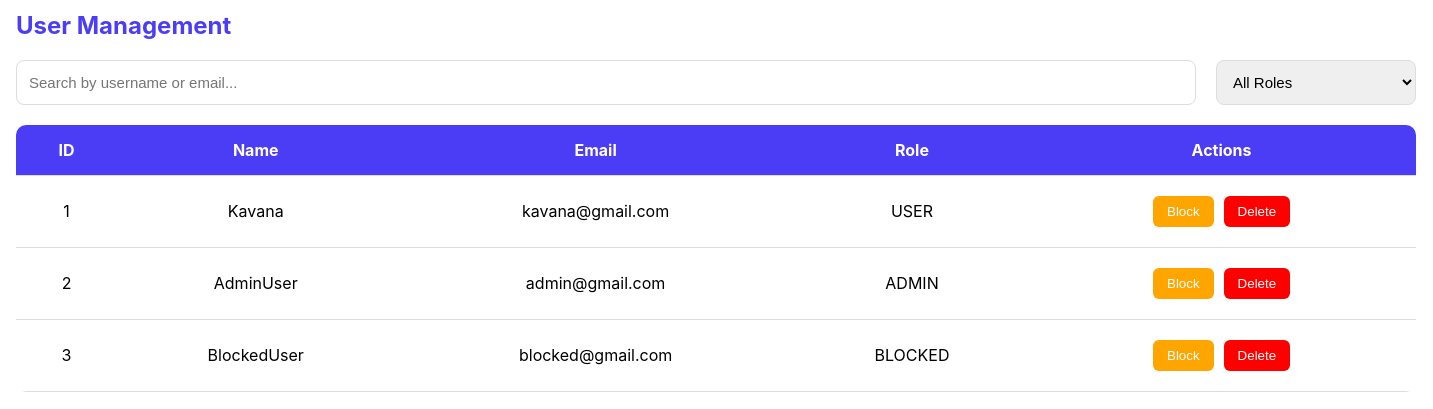
UserManagement Component › filters users using search input
Expected: the text "Kavana" is shown, [117,175,394,247]
Type "AdminUser" into the field with placeholder "Search by username or email...".
click(606, 82); type("AdminUser")  # box [16,60,1196,105]
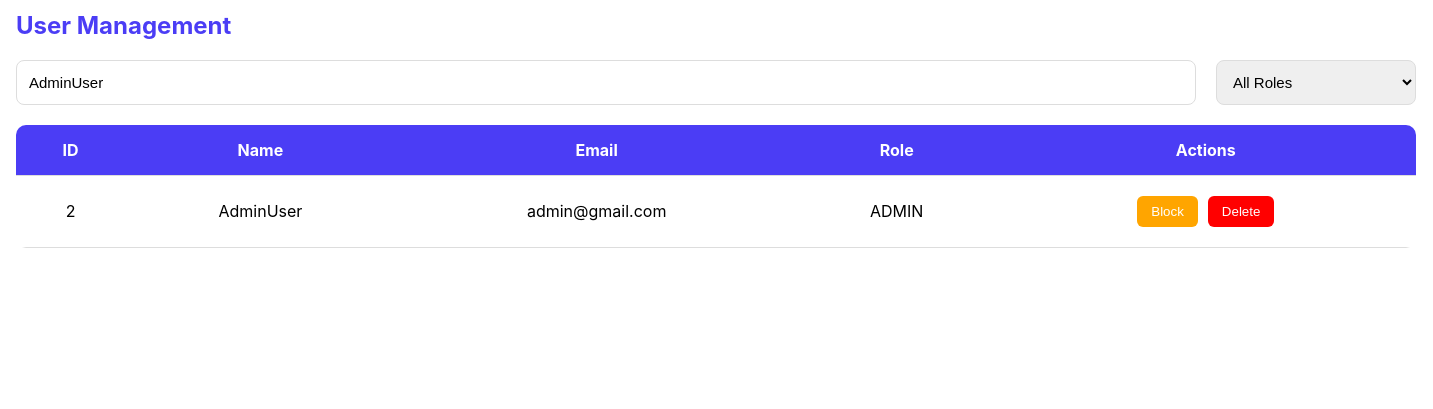
Expected: the text "AdminUser" is shown, [125,175,396,247]
Now the text "Kavana" is gone
